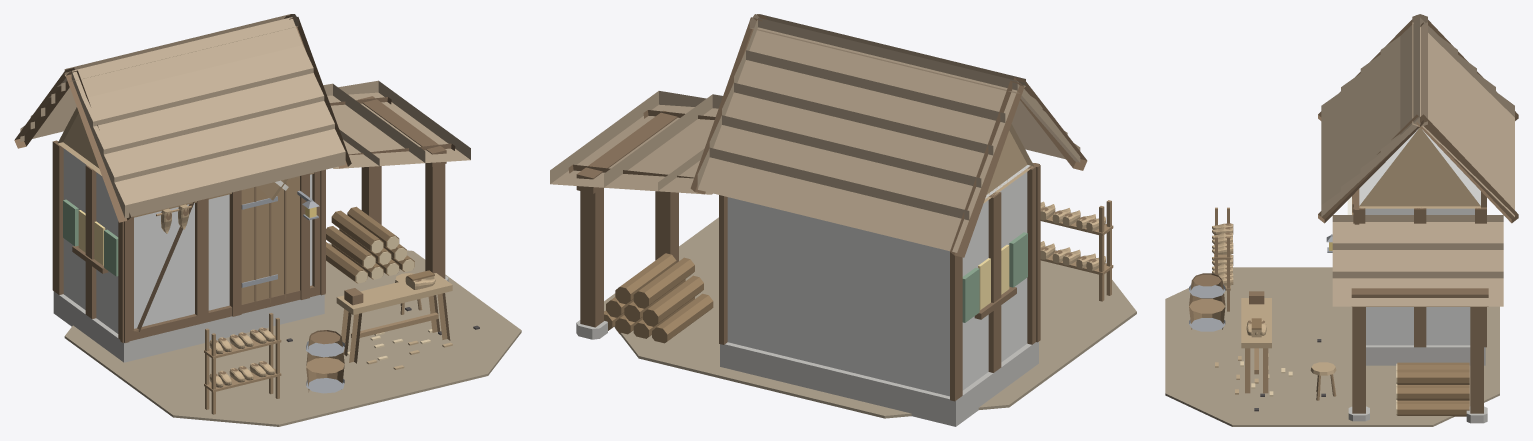
The model's file is cobbler.glb.
3 views of the same model, side by side, from view 1: azimuth 30°, elevation 25°; view 2: azimuth 150°, elevation 25°; view 3: azimuth 270°, elevation 25° (orthographic). The views are drawn at different scales.
Visible parts, largest first — view 1: Ground, Walls, Roof, Roof#2, Roof#3, Roof#4, Roof#5, Door, Plinth, Lean.Roof#2, Lean.Roof, Lean.Post#2 (+31 smaller); view 2: Walls, Ground, Roof#6, Roof#7, Roof#8, Roof#9, Plinth, Roof#10, Lean.Roof#2, Lean.Roof, Lean.Post, Roof#5 (+22 smaller); view 3: Ground, Walls, Gable#2, Lean.Roof#2, Lean.Roof, Lean.Roof#3, Roof#3, Roof#4, Roof, Roof#2, Roof#5, Plinth (+20 smaller).
Part boxes in pixels (<box>): Ground: <box>64,243,521,426</box>; Walls: <box>63,148,312,333</box>; Roof: <box>114,129,345,218</box>; Roof#2: <box>103,101,334,189</box>; Roof#3: <box>93,73,324,161</box>; Roof#4: <box>82,45,313,133</box>; Roof#5: <box>71,17,302,105</box>; Door: <box>241,177,299,304</box>; Plinth: <box>53,291,324,362</box>; Lean.Roof#2: <box>323,83,425,165</box>; Lean.Roof: <box>338,80,470,162</box>; Lean.Post#2: <box>425,144,445,278</box>; Walls: <box>727,165,1029,396</box>; Ground: <box>604,217,1136,418</box>; Roof#6: <box>697,147,969,252</box>; Roof#7: <box>709,115,981,219</box>; Roof#8: <box>722,82,993,186</box>; Roof#9: <box>734,50,1005,154</box>; Plinth: <box>720,342,1038,426</box>; Roof#10: <box>746,18,1017,122</box>; Lean.Roof#2: <box>604,94,722,191</box>; Lean.Roof: <box>550,91,706,187</box>; Lean.Post: <box>580,166,603,327</box>; Roof#5: <box>758,17,1029,104</box>; Ground: <box>1165,267,1499,426</box>; Walls: <box>1359,128,1480,345</box>; Gable#2: <box>1359,127,1480,208</box>; Lean.Roof#2: <box>1332,243,1503,271</box>; Lean.Roof: <box>1332,271,1503,306</box>; Lean.Roof#3: <box>1332,215,1503,243</box>; Roof#3: <box>1360,55,1380,179</box>; Roof#4: <box>1380,36,1400,161</box>; Roof: <box>1321,92,1340,216</box>; Roof#2: <box>1341,73,1360,198</box>; Roof#5: <box>1400,18,1419,142</box>; Plinth: <box>1366,345,1485,365</box>.
Bounding box in the file's own units: 5.01 × 3.69 × 4.64.
